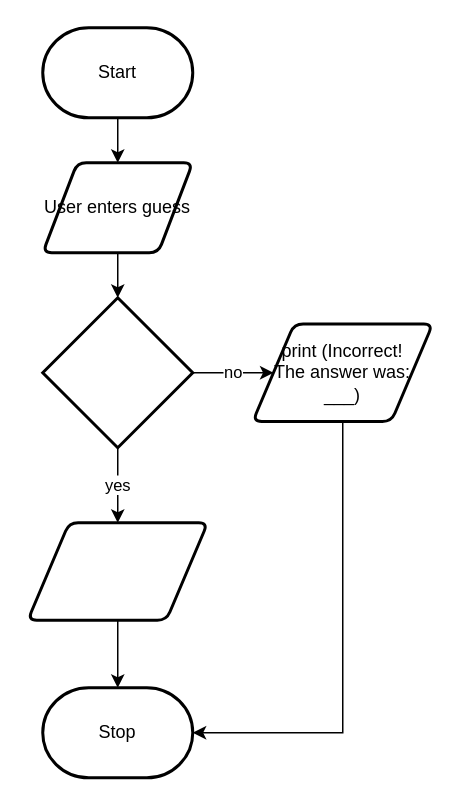
The diagram is 459 pixels wide and 804 high, and some of its shapes have lost their labels. The centre of each missing label's shape, as x and y in pixels:
"If guess == random number" belongs at point 117,372.
"print (Correct!)" belongs at point 117,570.
